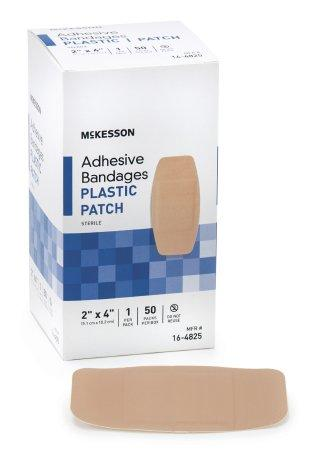bandage: (69, 366, 286, 433), (150, 155, 200, 259)
